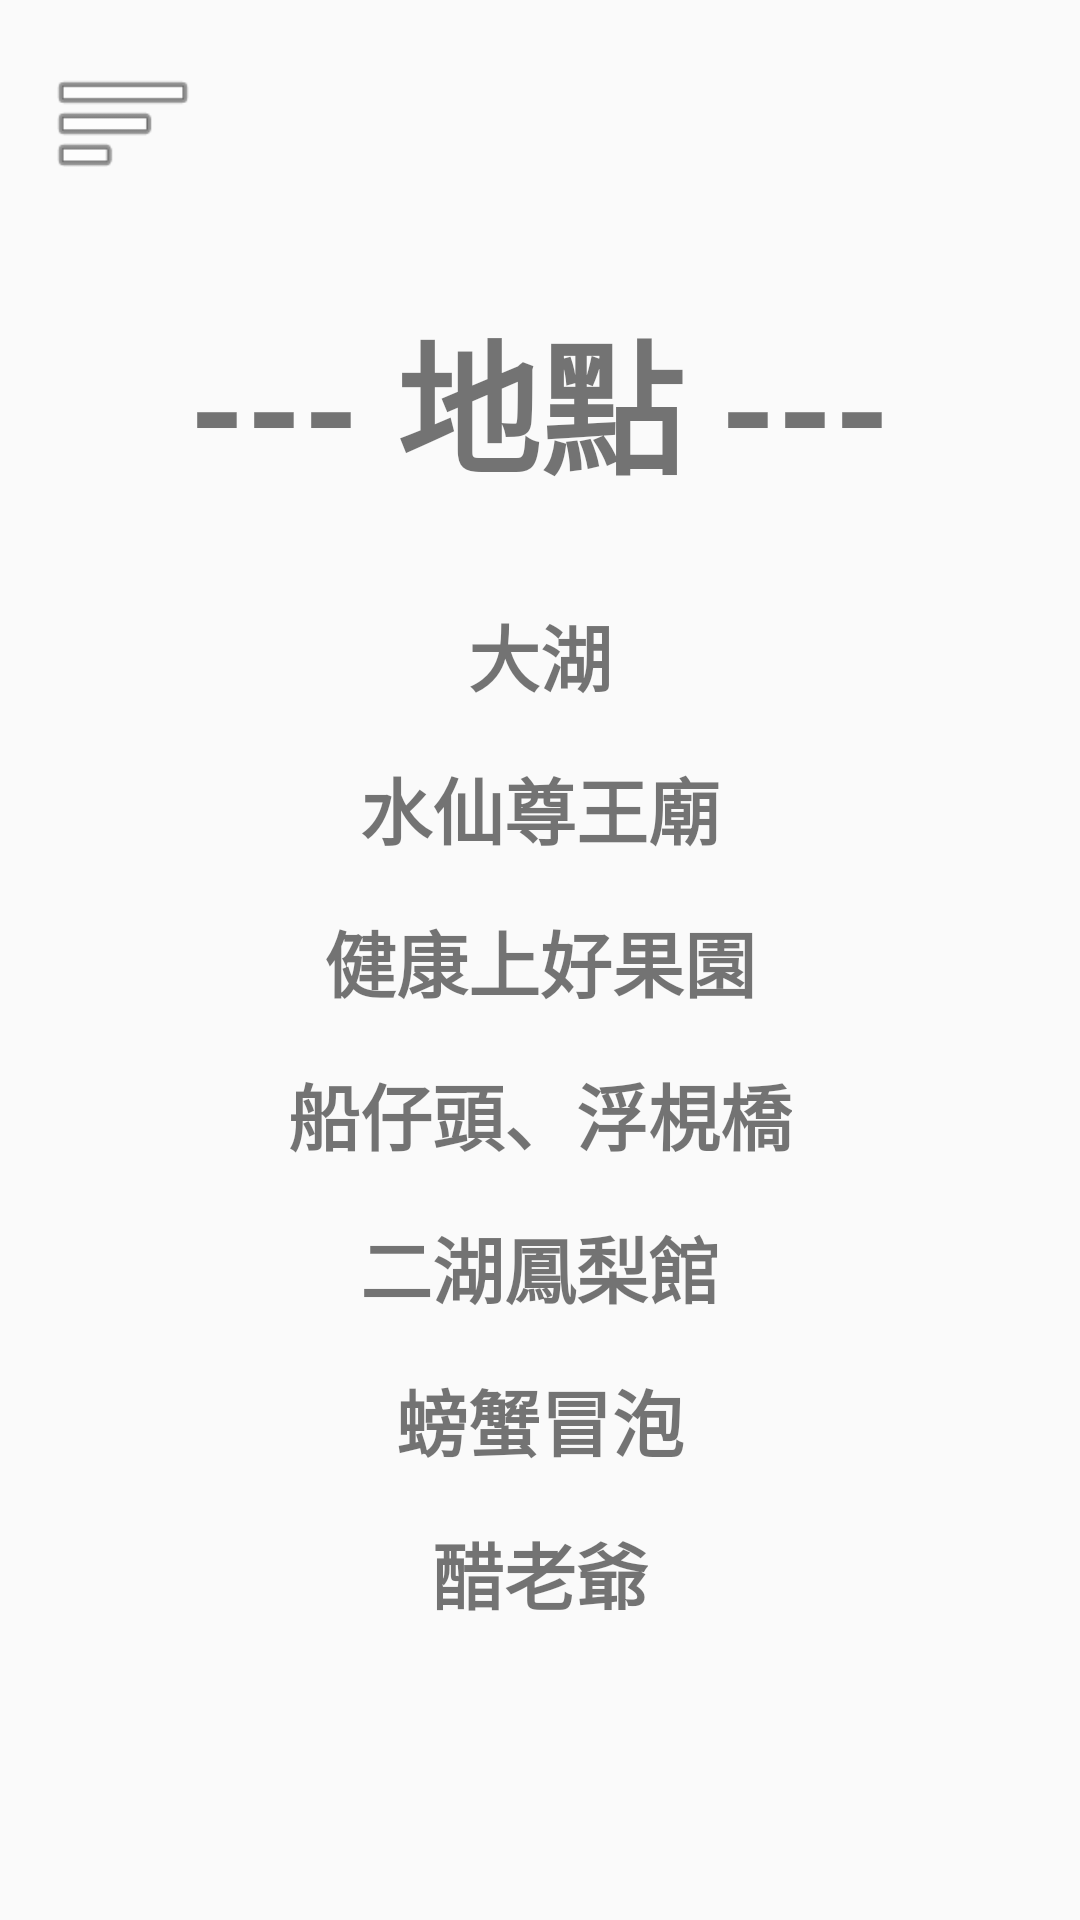

Named icons in this screenshot (1080x1920) and their centers, (x=x, y=y):
sort by size: (x=123, y=124)
